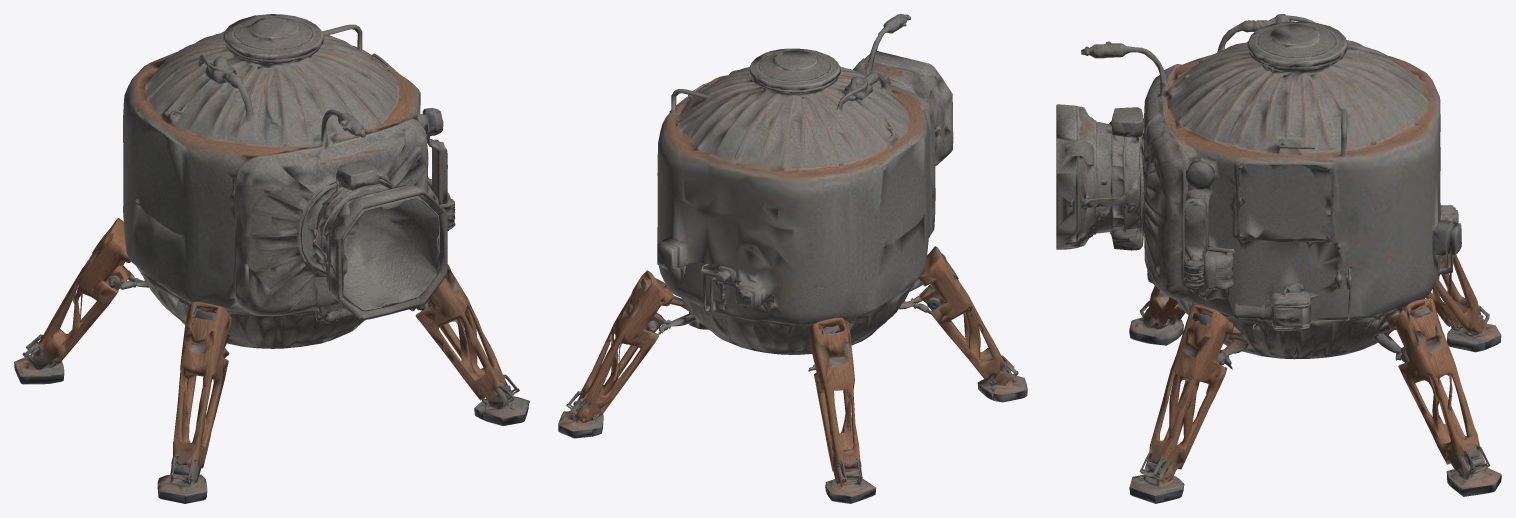
Rendered from links_lander.ab8ab039.glb.
3 renders of one model, left to right at view 1: azimuth 30°, elevation 25°; view 2: azimuth 150°, elevation 25°; view 3: azimuth 270°, elevation 25°, orthographic. The views are drawn at different scales.
Bounding box in the file's own units: 1.85 × 1.8 × 1.9.
1 material, 1 textured.
